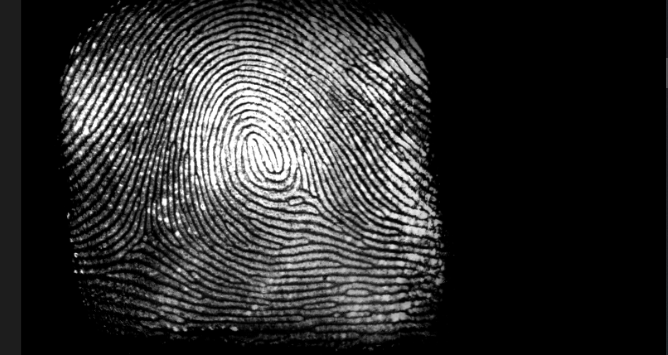nucelo: (245, 132, 275, 172)
verticilo: (130, 228, 157, 253), (303, 184, 325, 199)
